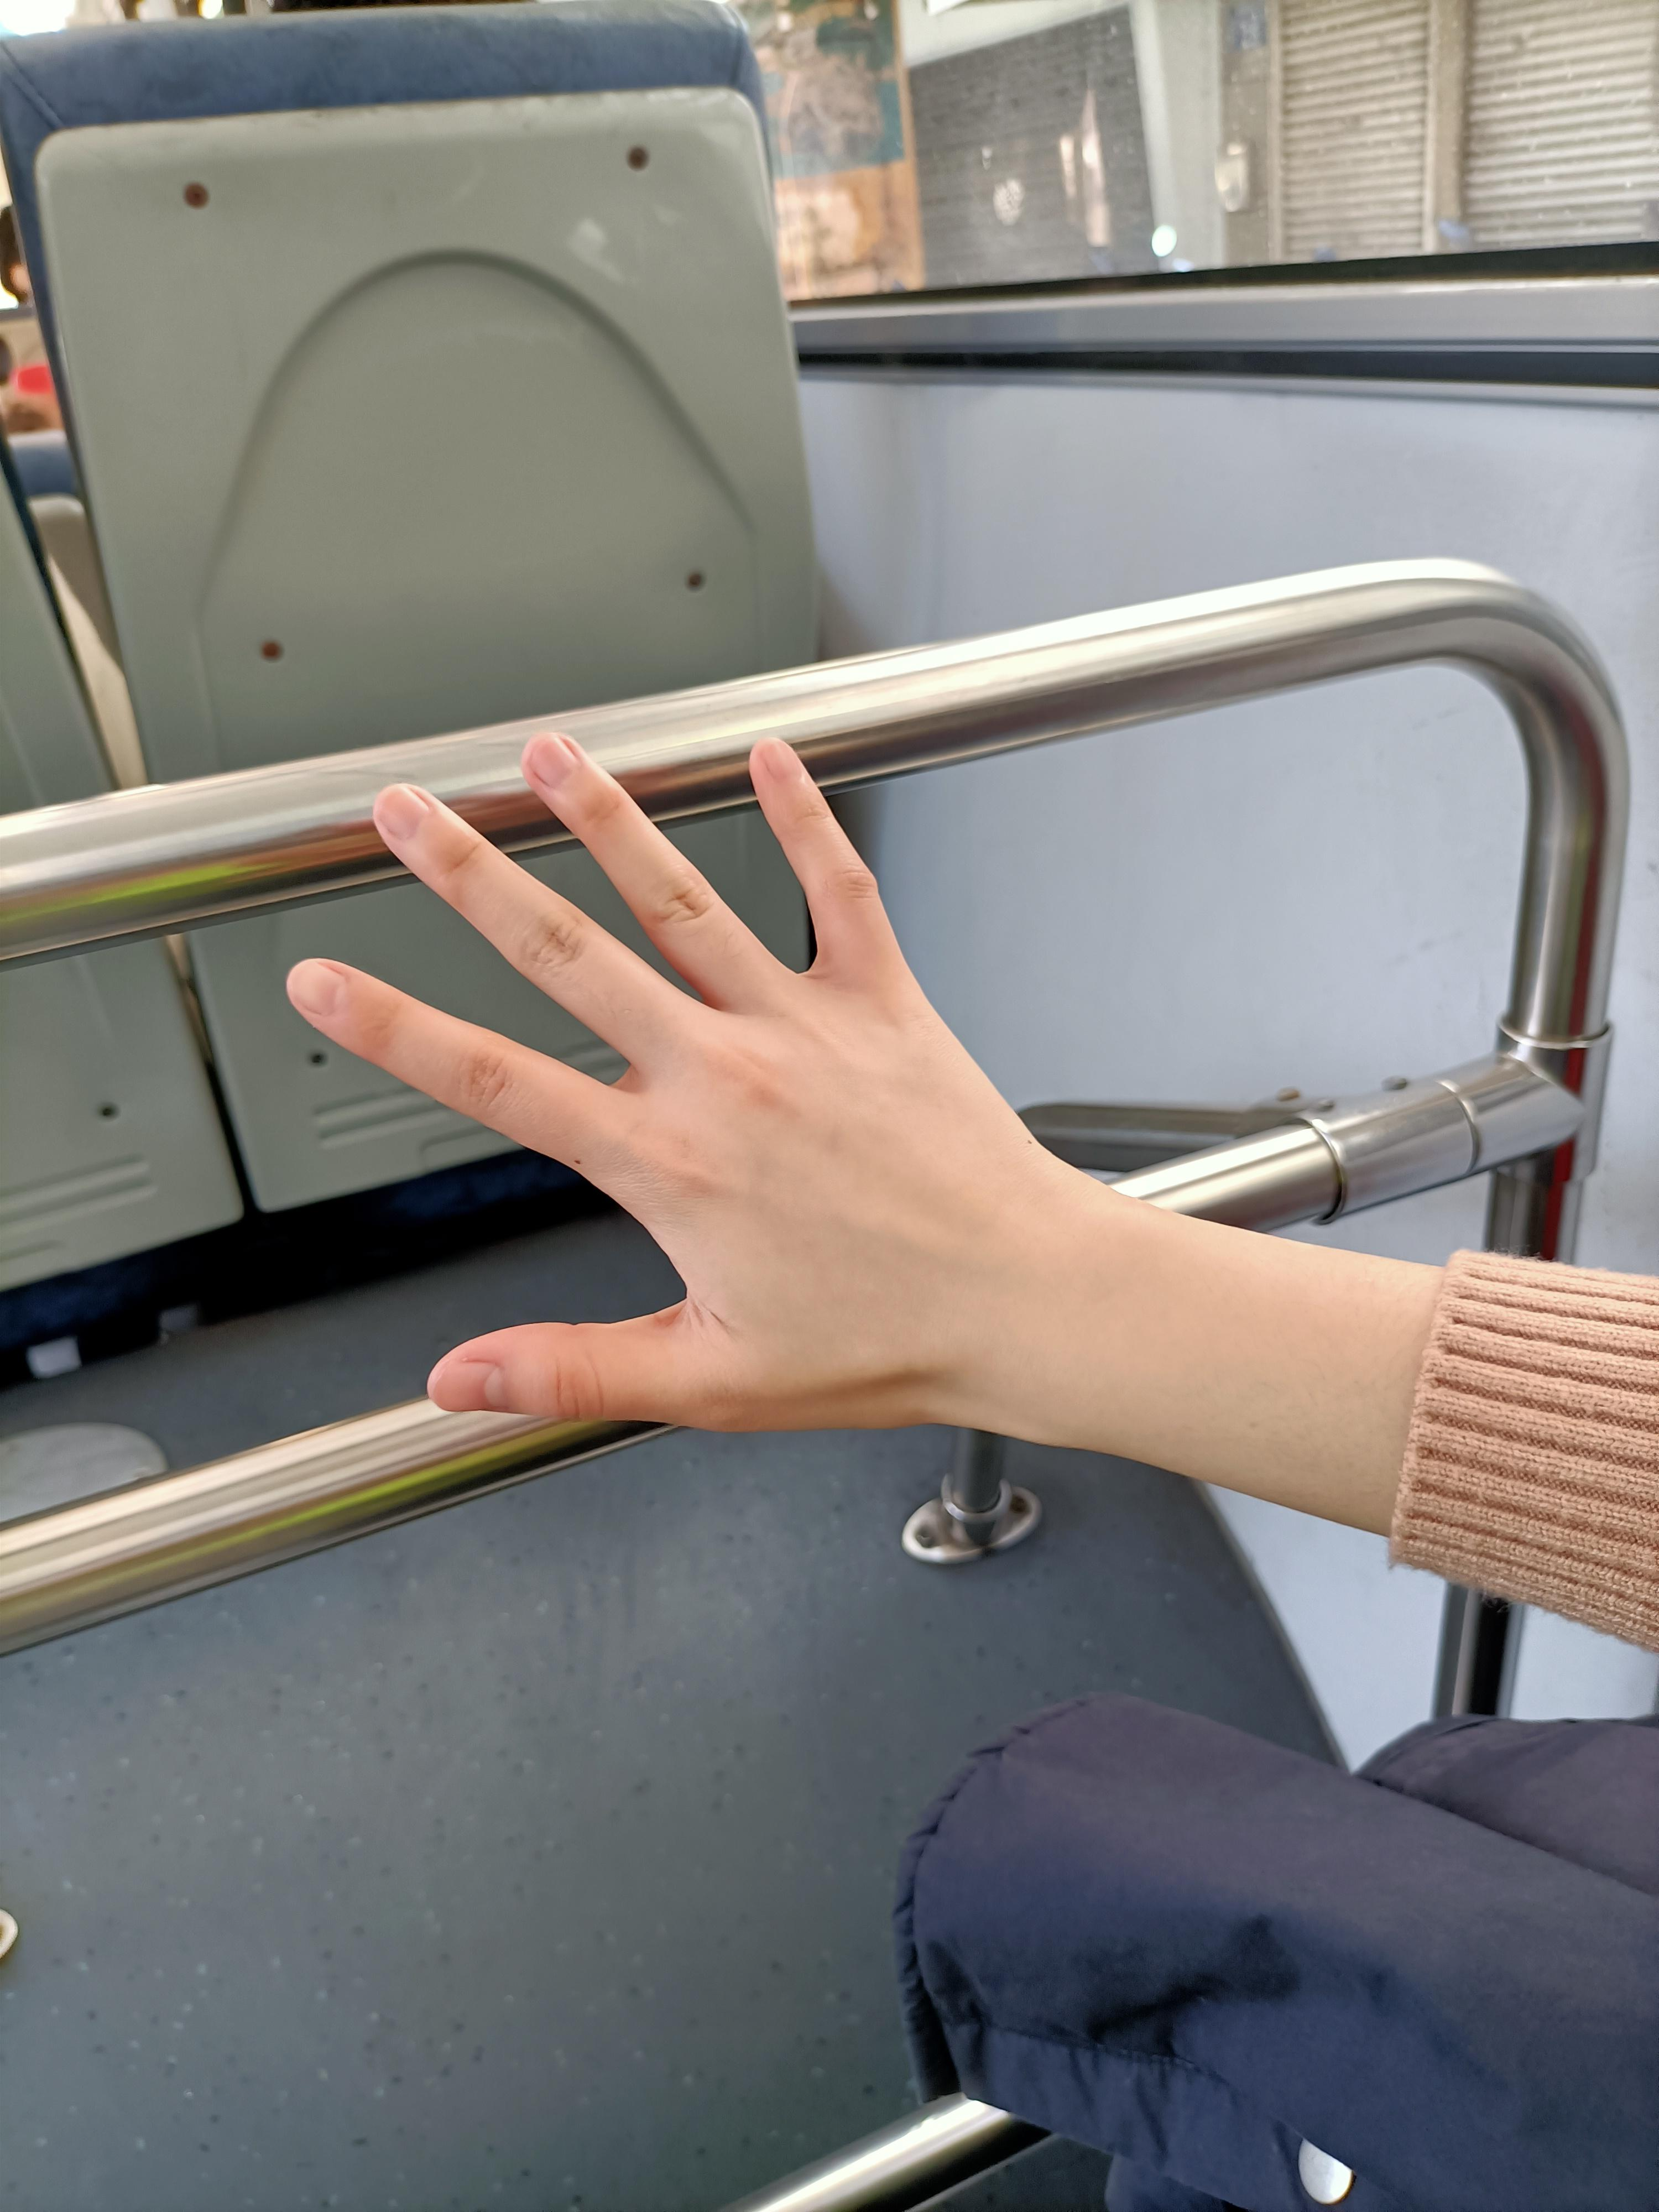hand: (282, 725, 1026, 1442)
